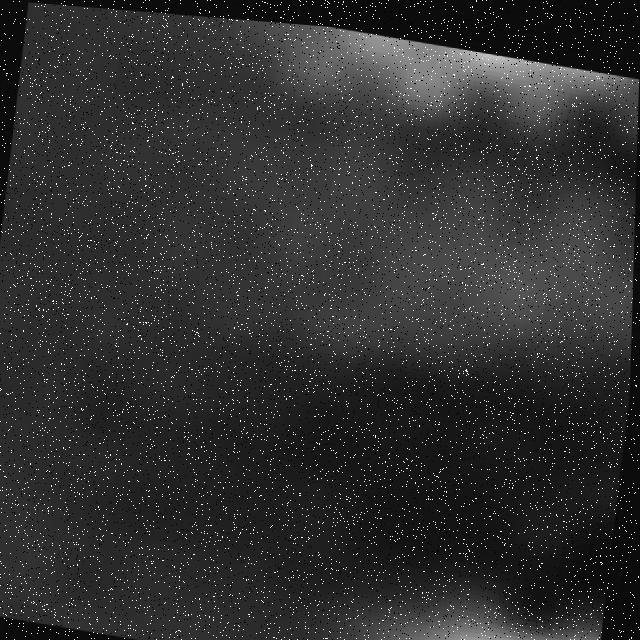person: (186, 100, 639, 415), (163, 12, 640, 121), (312, 567, 607, 640)
